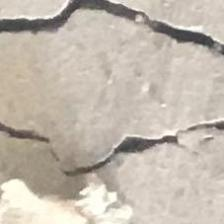Crack: (3, 0, 224, 181)
